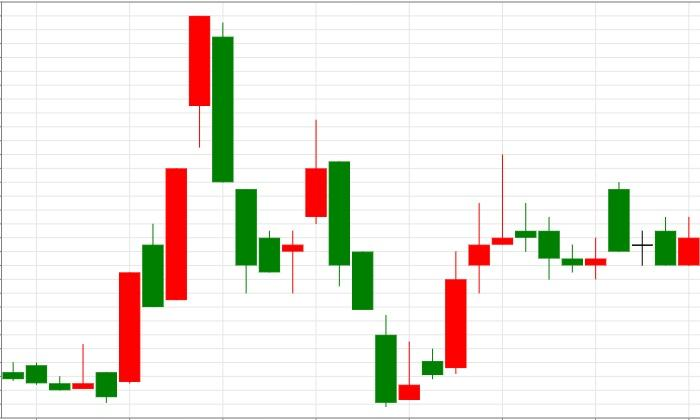three_black_crows_fall: (259, 119, 396, 407)
